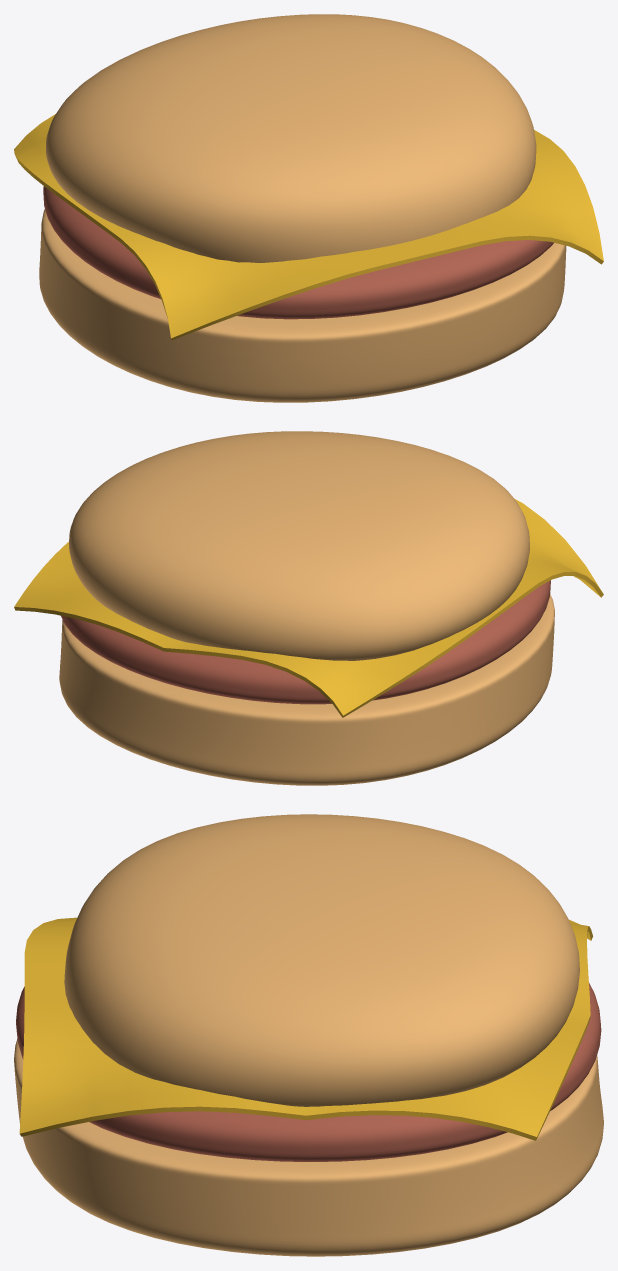
Rendered from hamburger.glb.
3 views of the same model, one above another, from view 1: azimuth 30°, elevation 25°; view 2: azimuth 150°, elevation 25°; view 3: azimuth 270°, elevation 25° (orthographic). The views are drawn at different scales.
Parts seen in each view (by area): view 1: Cube.002, Cube, Plane, Cube.001; view 2: Cube.002, Cube, Plane, Cube.001; view 3: Cube.002, Cube, Plane, Cube.001.
Boxes of the visible parts, <box> form: Cube.002: <box>46,14,536,262</box>; Cube: <box>39,209,566,402</box>; Plane: <box>14,114,603,340</box>; Cube.001: <box>43,186,553,319</box>; Cube.002: <box>69,431,529,660</box>; Cube: <box>59,594,554,785</box>; Plane: <box>14,499,603,717</box>; Cube.001: <box>61,580,550,704</box>; Cube.002: <box>64,814,579,1106</box>; Cube: <box>14,1039,603,1256</box>; Plane: <box>19,917,592,1140</box>; Cube.001: <box>16,983,601,1161</box>.
Bounding box in the file's own units: 9.13 × 4.61 × 9.12.
